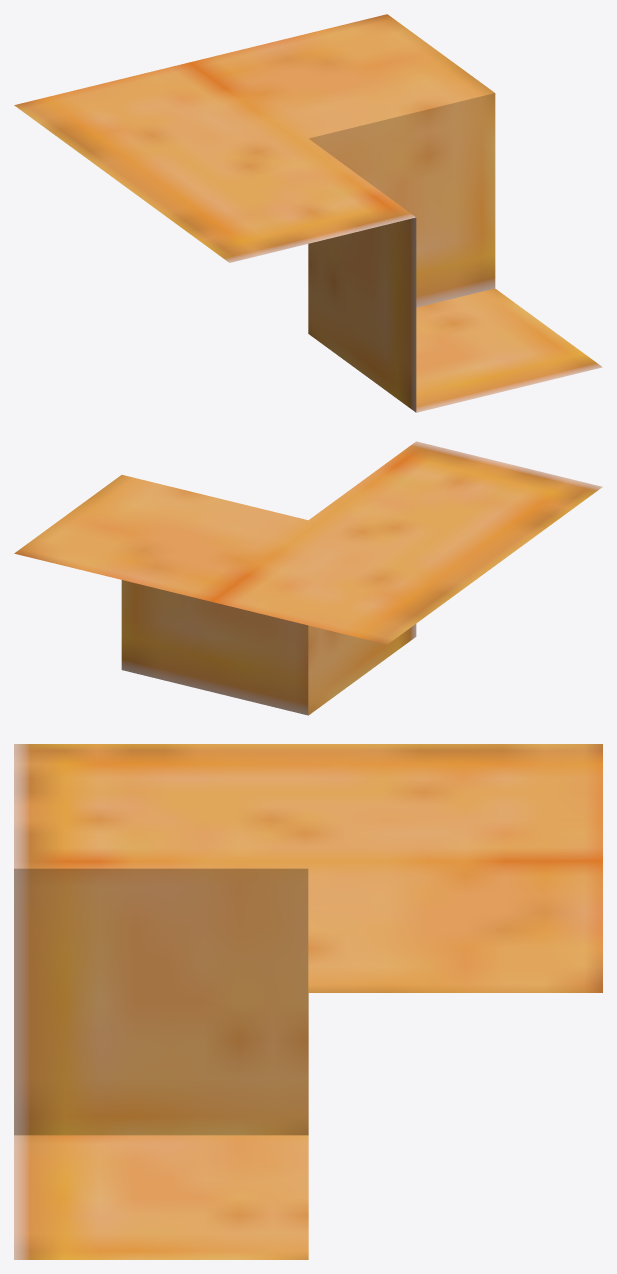
The model's file is geo_stepCornerClose.fbx.
3 views of the same model, one above another, from view 1: azimuth 30°, elevation 25°; view 2: azimuth 150°, elevation 25°; view 3: azimuth 270°, elevation 25° (orthographic). The views are drawn at different scales.
Parts seen in each view (by area): view 1: geo_stepCornerClose; view 2: geo_stepCornerClose; view 3: geo_stepCornerClose.
Boxes of the visible parts, bbox=[...] form: geo_stepCornerClose: bbox=[14, 14, 602, 412]; geo_stepCornerClose: bbox=[14, 441, 602, 715]; geo_stepCornerClose: bbox=[14, 744, 602, 1259].
Size of the model in its own units: 2 by 1 by 2.
Materials: 1 (1 with a texture image).
